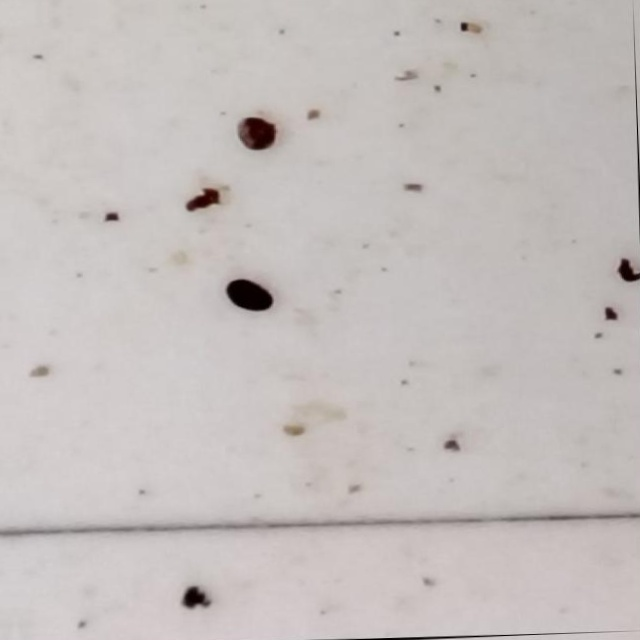varroa: (220, 275, 274, 316), (231, 113, 279, 154)
